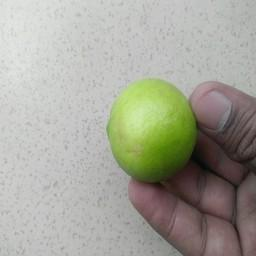Good_lime: (108, 75, 197, 184)
